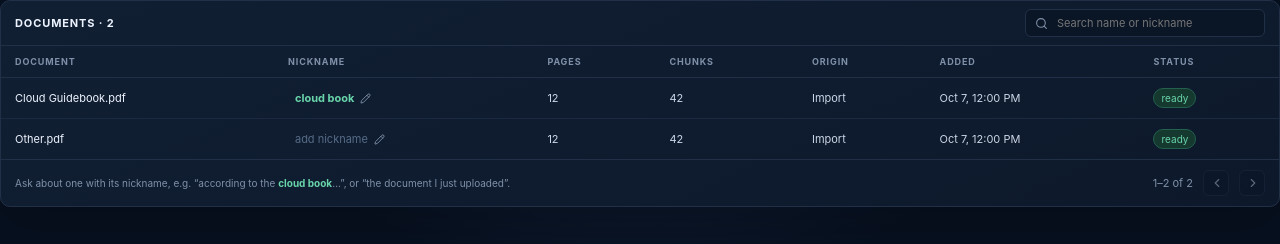
DocumentsTable nicknames › falls back to a generic message when the error body is not JSON
Click the button "cloud book" at coordinates (333, 98), box [288,87,378,109]
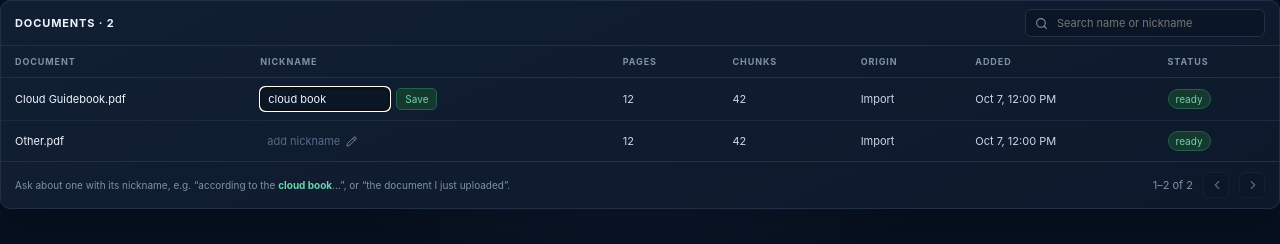
Click the button "Save" at coordinates (417, 99), box [396,88,437,110]
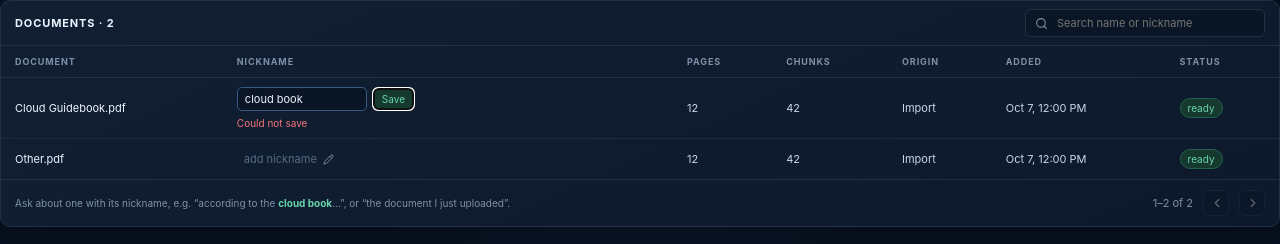
Check: the text "Could not save" is shown, box [237,117,307,129]
